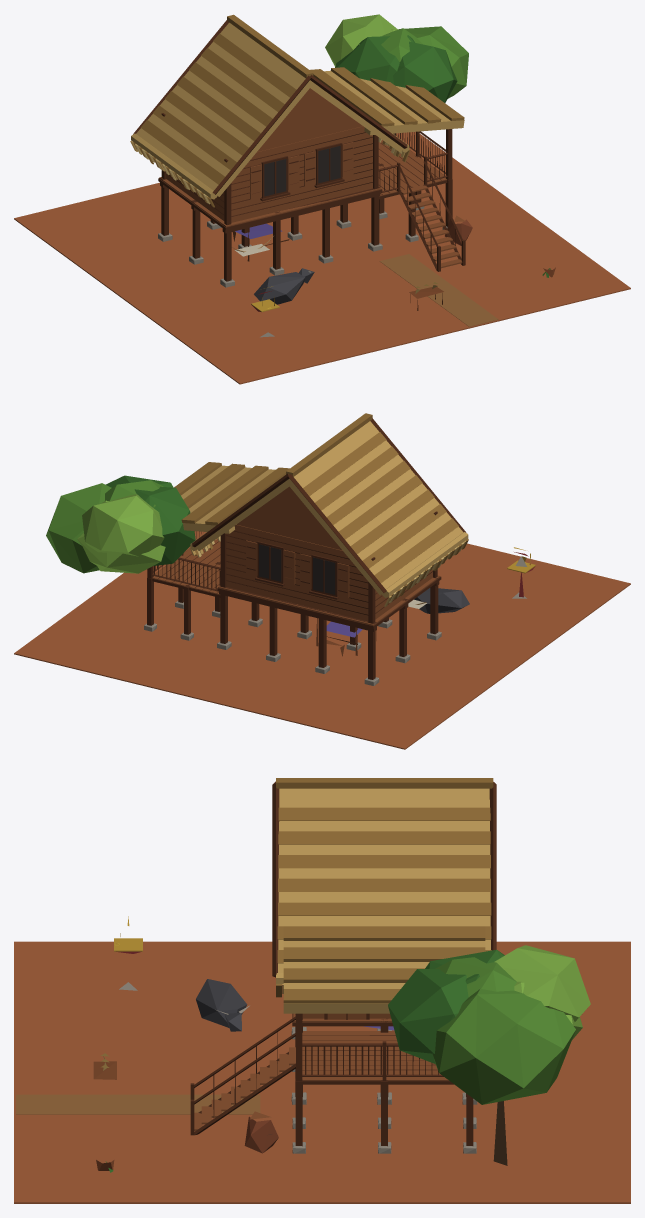
Rendered from home_2.glb.
3 renders of one model, top to bottom at view 1: azimuth 30°, elevation 25°; view 2: azimuth 150°, elevation 25°; view 3: azimuth 270°, elevation 25°, orthographic. The views are drawn at different scales.
Visible parts, largest first — view 1: body, windows; view 2: body, windows; view 3: body.
Boxes of the visible parts, x1,y1,x2,y2 form: body: (14,14,630,384); windows: (264,145,340,196); body: (14,413,630,749); windows: (259,544,335,594); body: (14,778,630,1203).
Size of the model in its own units: 16.2 by 8 by 15.9.
